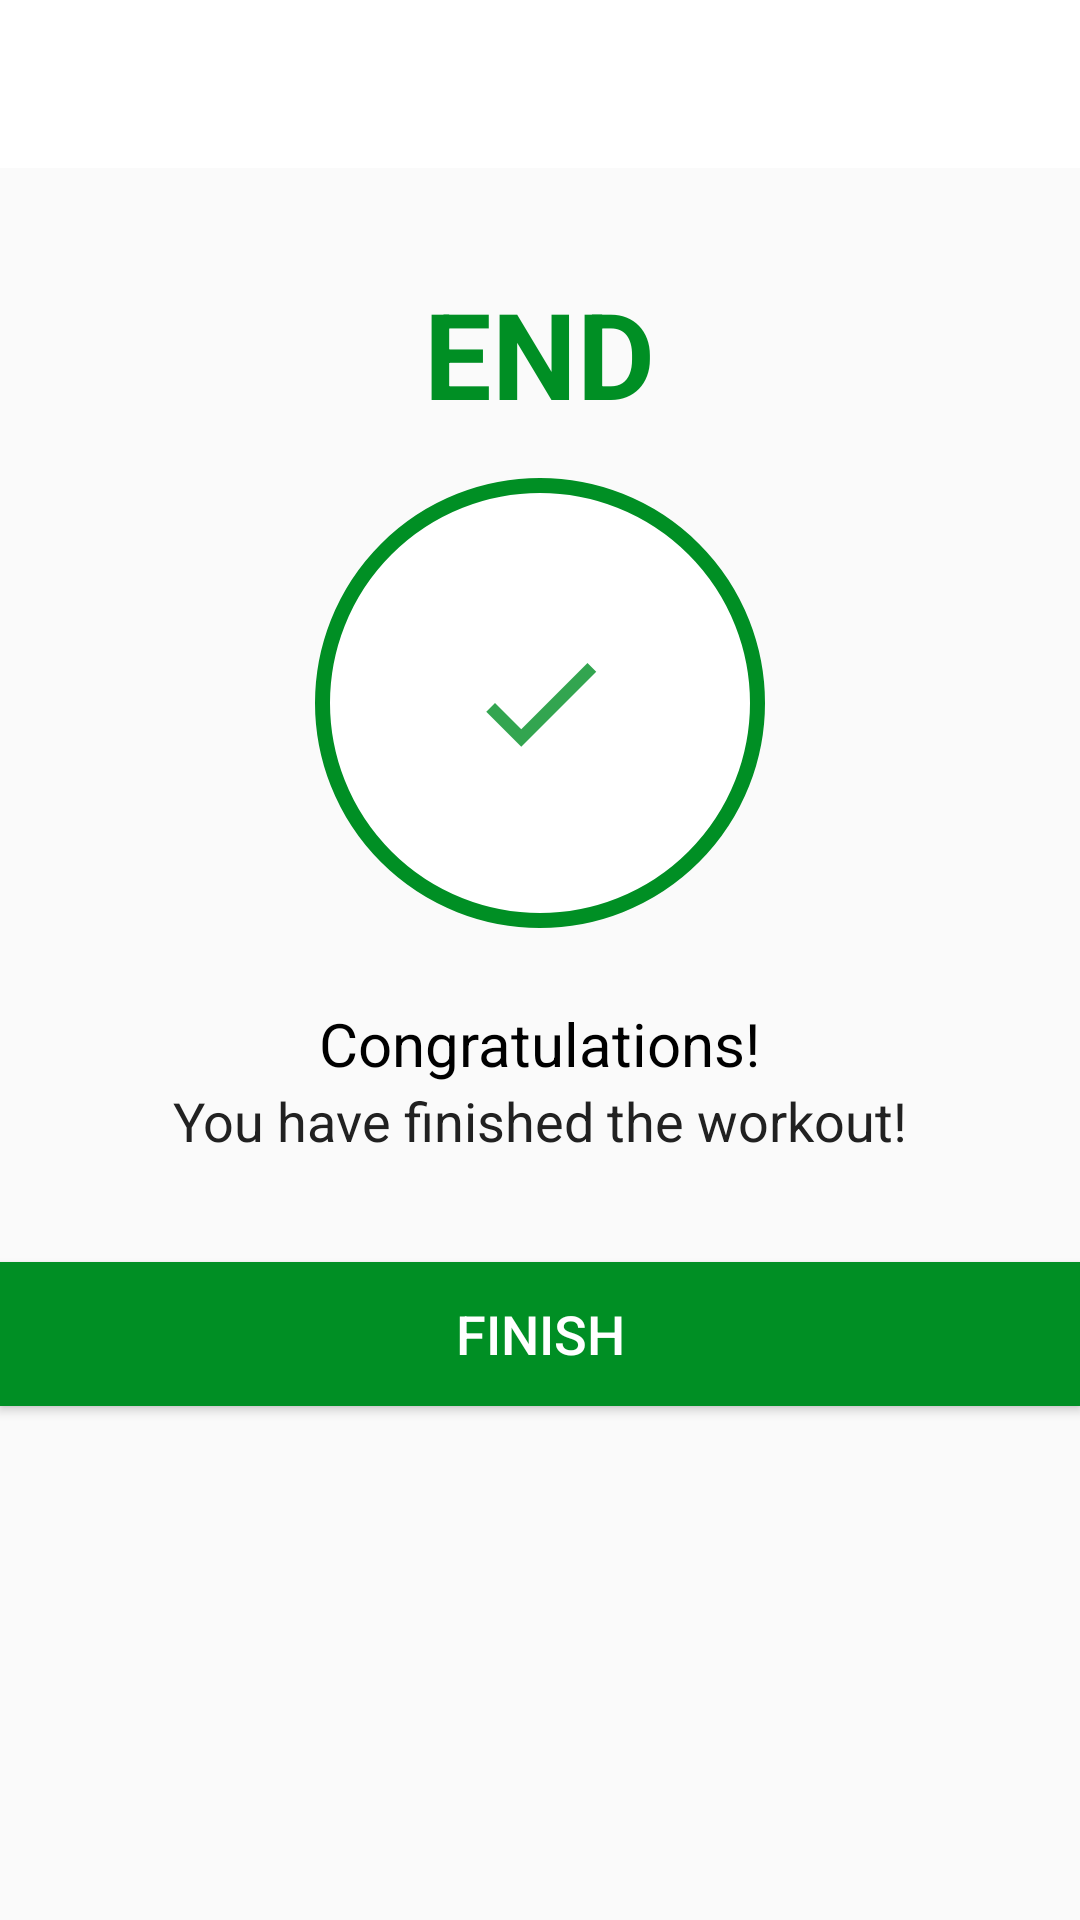

Icons on this 1080px×1920px Android screen, each with the point to tap as point (x, y):
done: point (541, 705)
